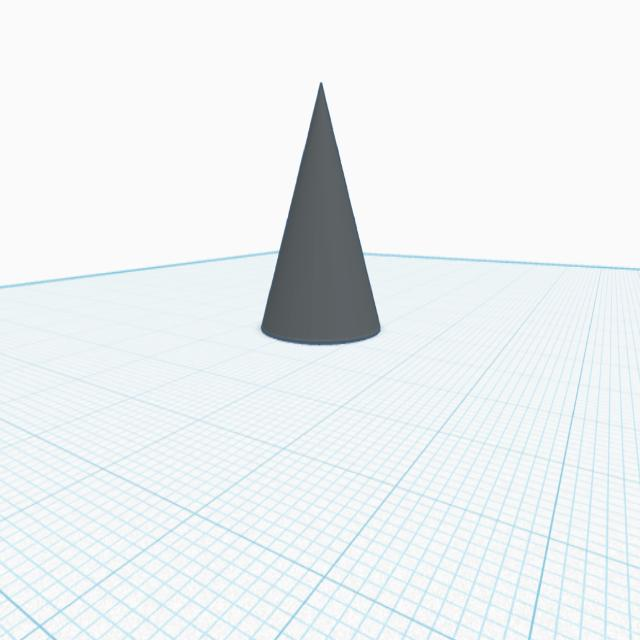cone: (253, 74, 386, 355)
